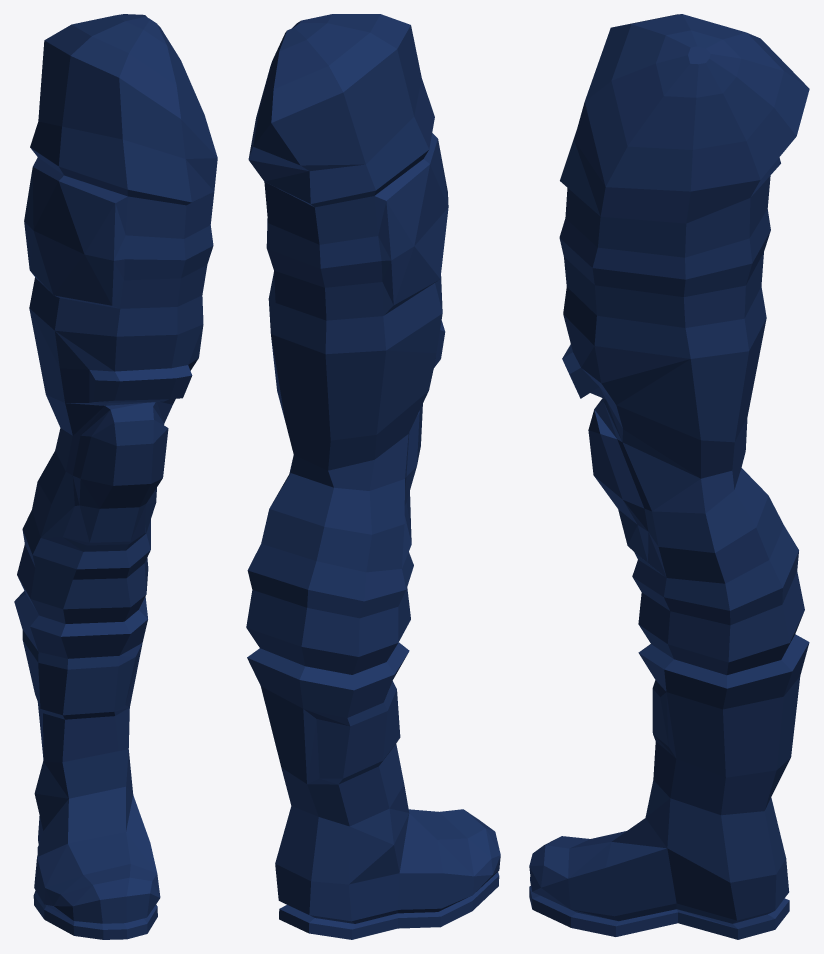
Rendered from right_leg.fbx.
The picture shows the model from 3 angles, left to right: view 1: azimuth 30°, elevation 25°; view 2: azimuth 150°, elevation 25°; view 3: azimuth 270°, elevation 25°; orthographic projection. The views are drawn at different scales.
Parts seen in each view (by area): view 1: right_leg_thigh; view 2: right_leg_thigh; view 3: right_leg_thigh.
Part boxes in pixels (x1,y1,x2,y2): right_leg_thigh: (14,14,217,939); right_leg_thigh: (246,14,500,939); right_leg_thigh: (529,14,809,939).
Bounding box in the file's own units: 0.2309 × 1.07 × 0.2984.
